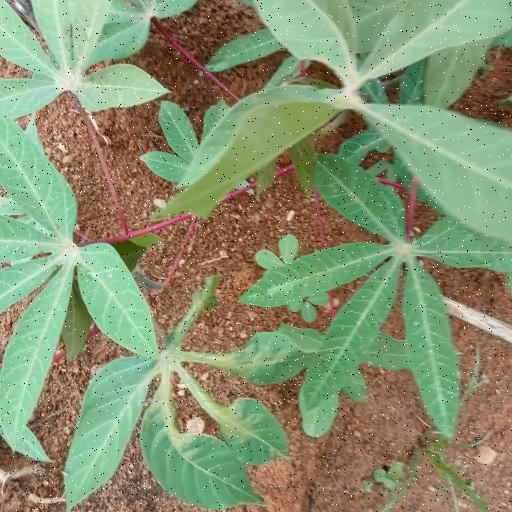Cassava_Mosaic: (59, 312, 325, 502), (0, 0, 168, 105)
